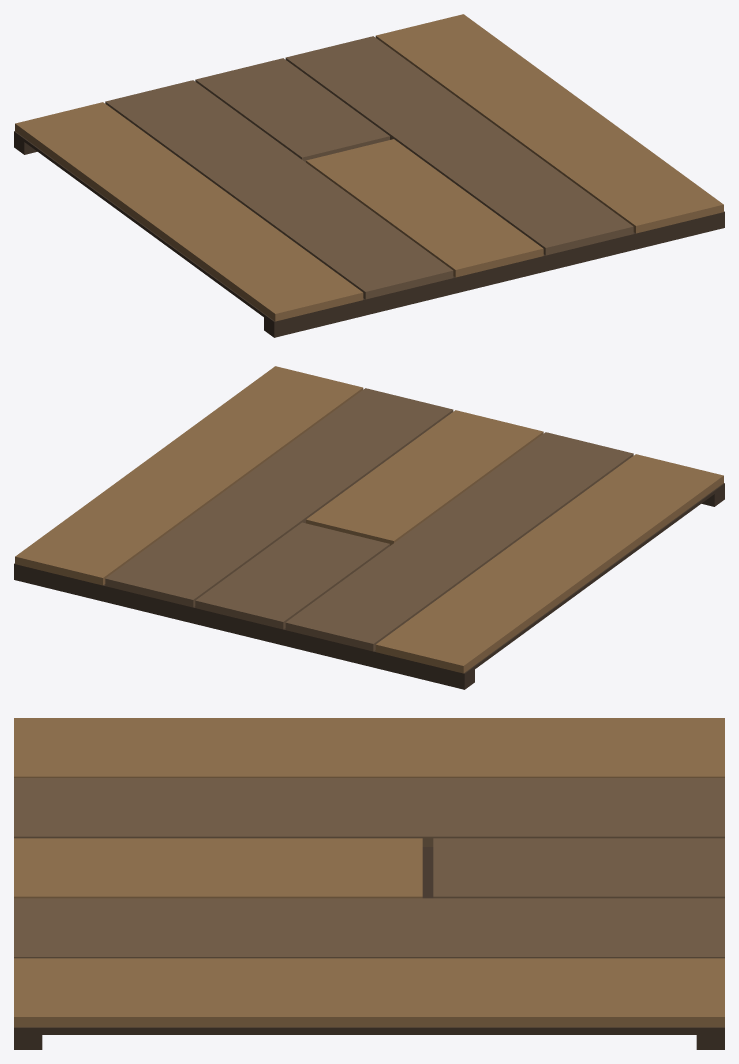
Rendered from base_floor.glb.
3 renders of one model, top to bottom at view 1: azimuth 30°, elevation 25°; view 2: azimuth 150°, elevation 25°; view 3: azimuth 270°, elevation 25°, orthographic. The views are drawn at different scales.
Visible parts, largest first — view 1: base_floor; view 2: base_floor; view 3: base_floor.
Boxes of the visible parts, x1,y1,x2,y2 form: base_floor: [14, 14, 724, 337]; base_floor: [14, 366, 724, 689]; base_floor: [14, 718, 724, 1049].
Size of what is drawn, in the model's own units: 2 by 0.1 by 2.
1 material, 1 textured.
